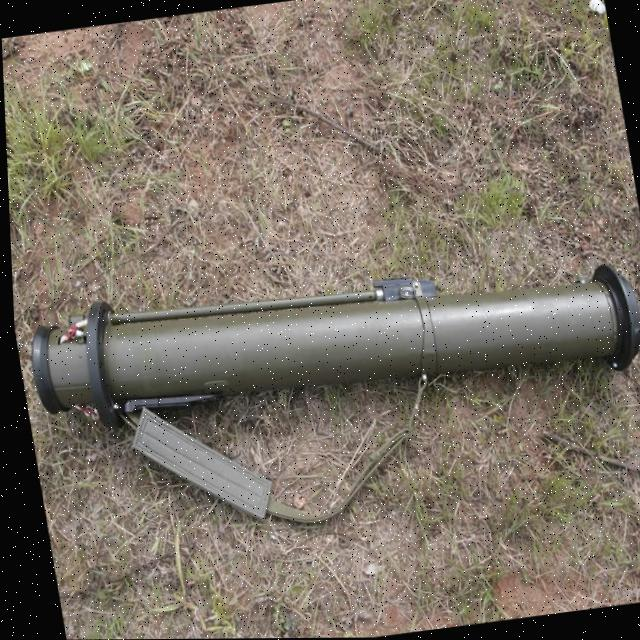rocket: (12, 205, 640, 570)
